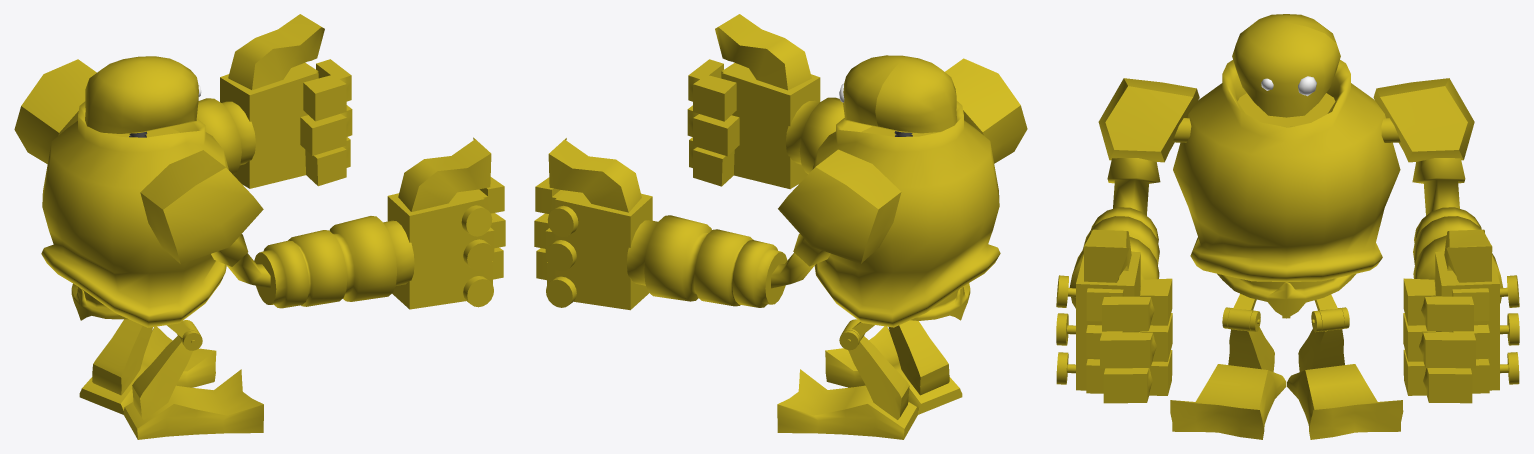
Rendered from Robot - Copy.obj.
3 renders of one model, left to right at view 1: azimuth 30°, elevation 25°; view 2: azimuth 150°, elevation 25°; view 3: azimuth 270°, elevation 25°, orthographic. The views are drawn at different scales.
Visible parts, largest first — view 1: Cylinder022, Cylinder025, Box018, Sphere001, Box026, Box015, Box029, Box017, Box016, Box025, Box002, Box004 (+12 smaller); view 2: Cylinder022, Cylinder019, Box017, Box015, Sphere001, Box026, Box002, Box018, Box025, Box016, Box029, Box028 (+12 smaller); view 3: Cylinder022, Sphere001, Box018, Box017, Box029, Box002, Box015, Box026, Cylinder025, Cylinder009, Cylinder019, Box016 (+19 smaller).
Boxes of the visible parts, box(x1,y1,x2,y2) form: Cylinder022: box(41, 101, 228, 327); Cylinder025: box(254, 216, 414, 308); Box018: box(140, 150, 263, 264); Sphere001: box(85, 56, 198, 133); Box026: box(387, 189, 494, 309); Box015: box(220, 62, 318, 188); Box029: box(123, 369, 263, 439); Box017: box(14, 59, 96, 164); Box016: box(228, 14, 324, 90); Box025: box(398, 137, 491, 211); Box002: box(79, 326, 216, 414); Box004: box(92, 319, 152, 395); Cylinder022: box(812, 101, 1000, 327); Cylinder019: box(626, 215, 787, 307); Box017: box(778, 149, 901, 263); Box015: box(545, 190, 652, 310); Sphere001: box(843, 55, 956, 133); Box026: box(721, 63, 820, 189); Box002: box(777, 369, 917, 439); Box018: box(945, 58, 1027, 163); Box025: box(715, 14, 811, 90); Box016: box(548, 138, 641, 212); Box029: box(825, 326, 962, 414); Box028: box(888, 320, 949, 395); Cylinder022: box(1173, 60, 1400, 281); Sphere001: box(1232, 14, 1340, 117); Box018: box(1098, 78, 1199, 162); Box017: box(1373, 78, 1474, 162); Box029: box(1170, 364, 1286, 439); Box002: box(1287, 364, 1403, 439); Box015: box(1435, 251, 1499, 393); Box026: box(1076, 251, 1140, 393); Cylinder025: box(1069, 207, 1159, 308); Cylinder009: box(1217, 273, 1355, 318); Cylinder019: box(1413, 207, 1503, 303); Box016: box(1444, 229, 1492, 282).
Bounding box in the file's own units: 124 × 113 × 127.
